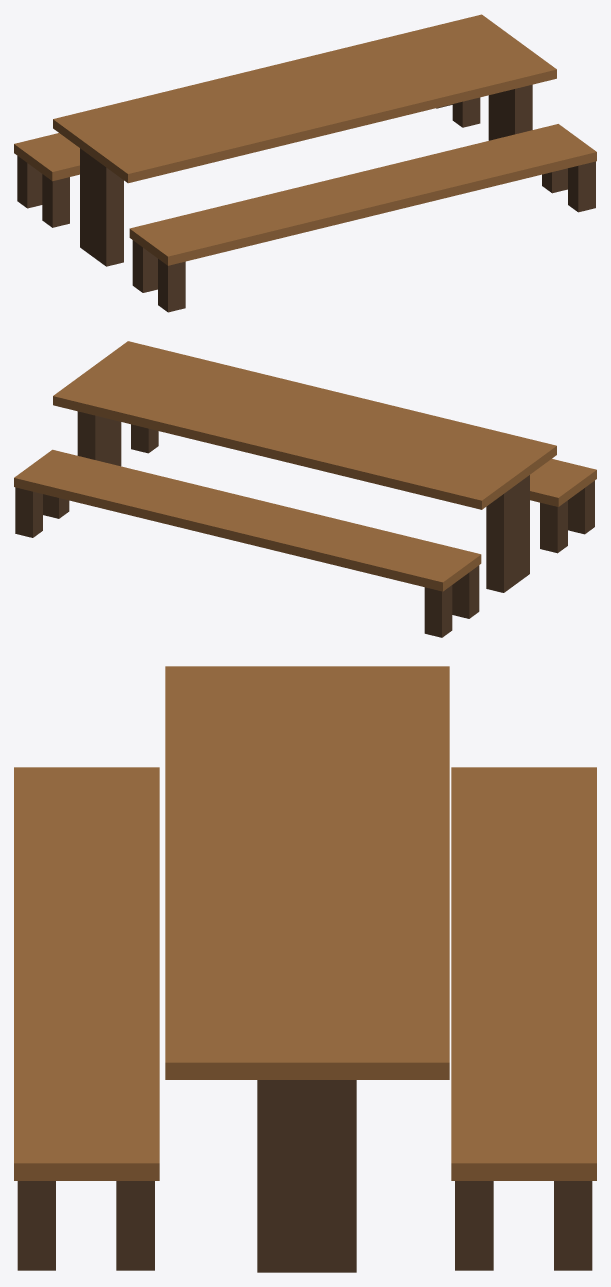
File: woodTable.fbx
The picture shows the model from 3 angles, top to bottom: view 1: azimuth 30°, elevation 25°; view 2: azimuth 150°, elevation 25°; view 3: azimuth 270°, elevation 25°; orthographic projection. The views are drawn at different scales.
Visible parts, largest first — view 1: Table; view 2: Table; view 3: Table.
Boxes of the visible parts, bbox=[...] form: Table: bbox=[14, 14, 596, 312]; Table: bbox=[14, 341, 596, 637]; Table: bbox=[14, 666, 596, 1272].
Bounding box in the file's own units: 6.09 × 1.51 × 3.78.
